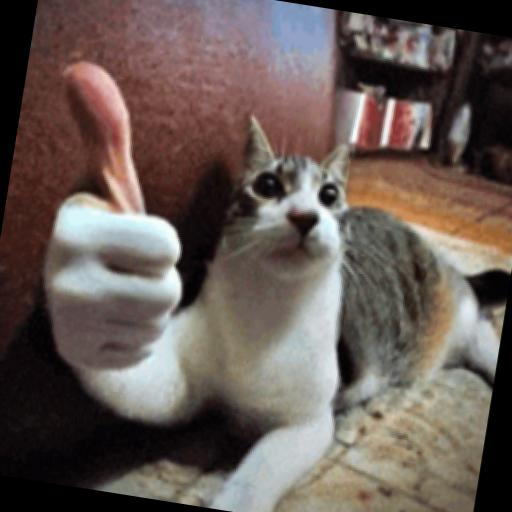Thumbs_Up: (0, 22, 241, 415)
